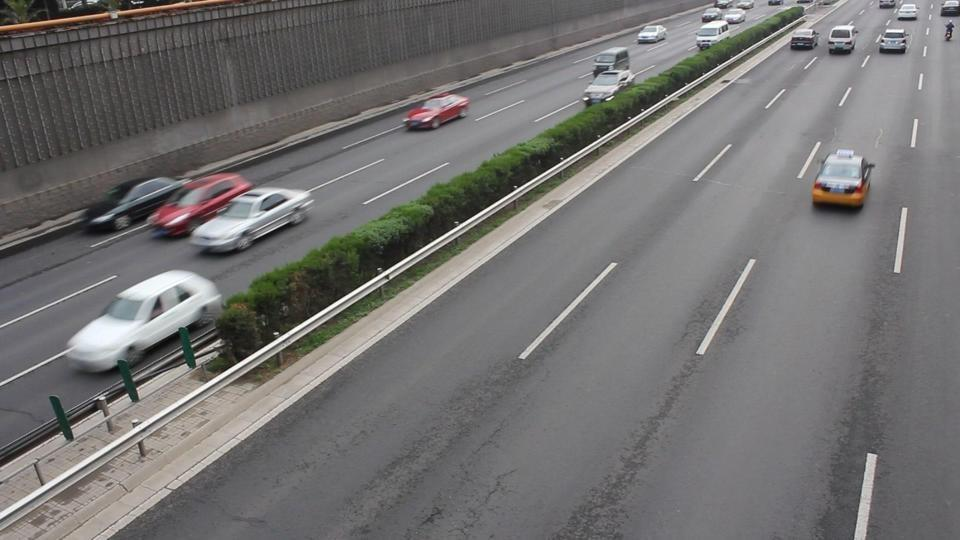car: (64, 268, 223, 373), (189, 187, 315, 255), (148, 171, 254, 239), (80, 177, 190, 234), (811, 147, 876, 211), (402, 92, 470, 132), (582, 68, 635, 107), (695, 21, 729, 50), (592, 48, 631, 73), (827, 25, 858, 55), (877, 29, 909, 55), (789, 26, 819, 50), (637, 24, 667, 45), (896, 2, 918, 21), (939, 1, 960, 15)
